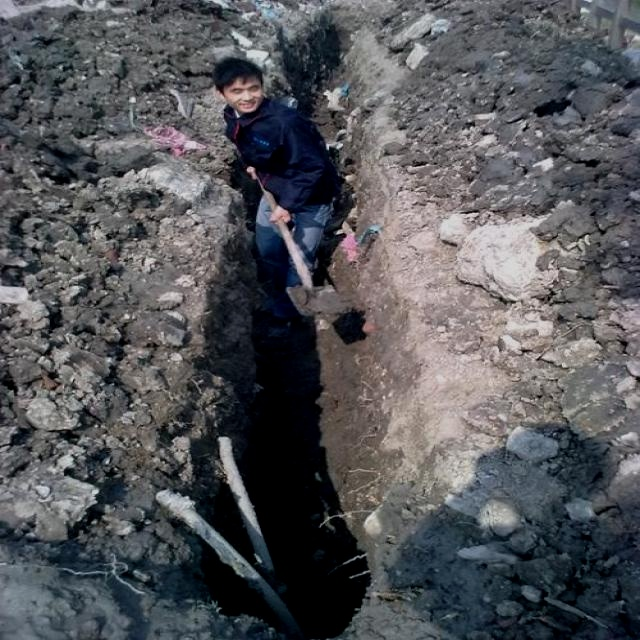Sin_Casco_Mascarrilla: (217, 61, 268, 116)
